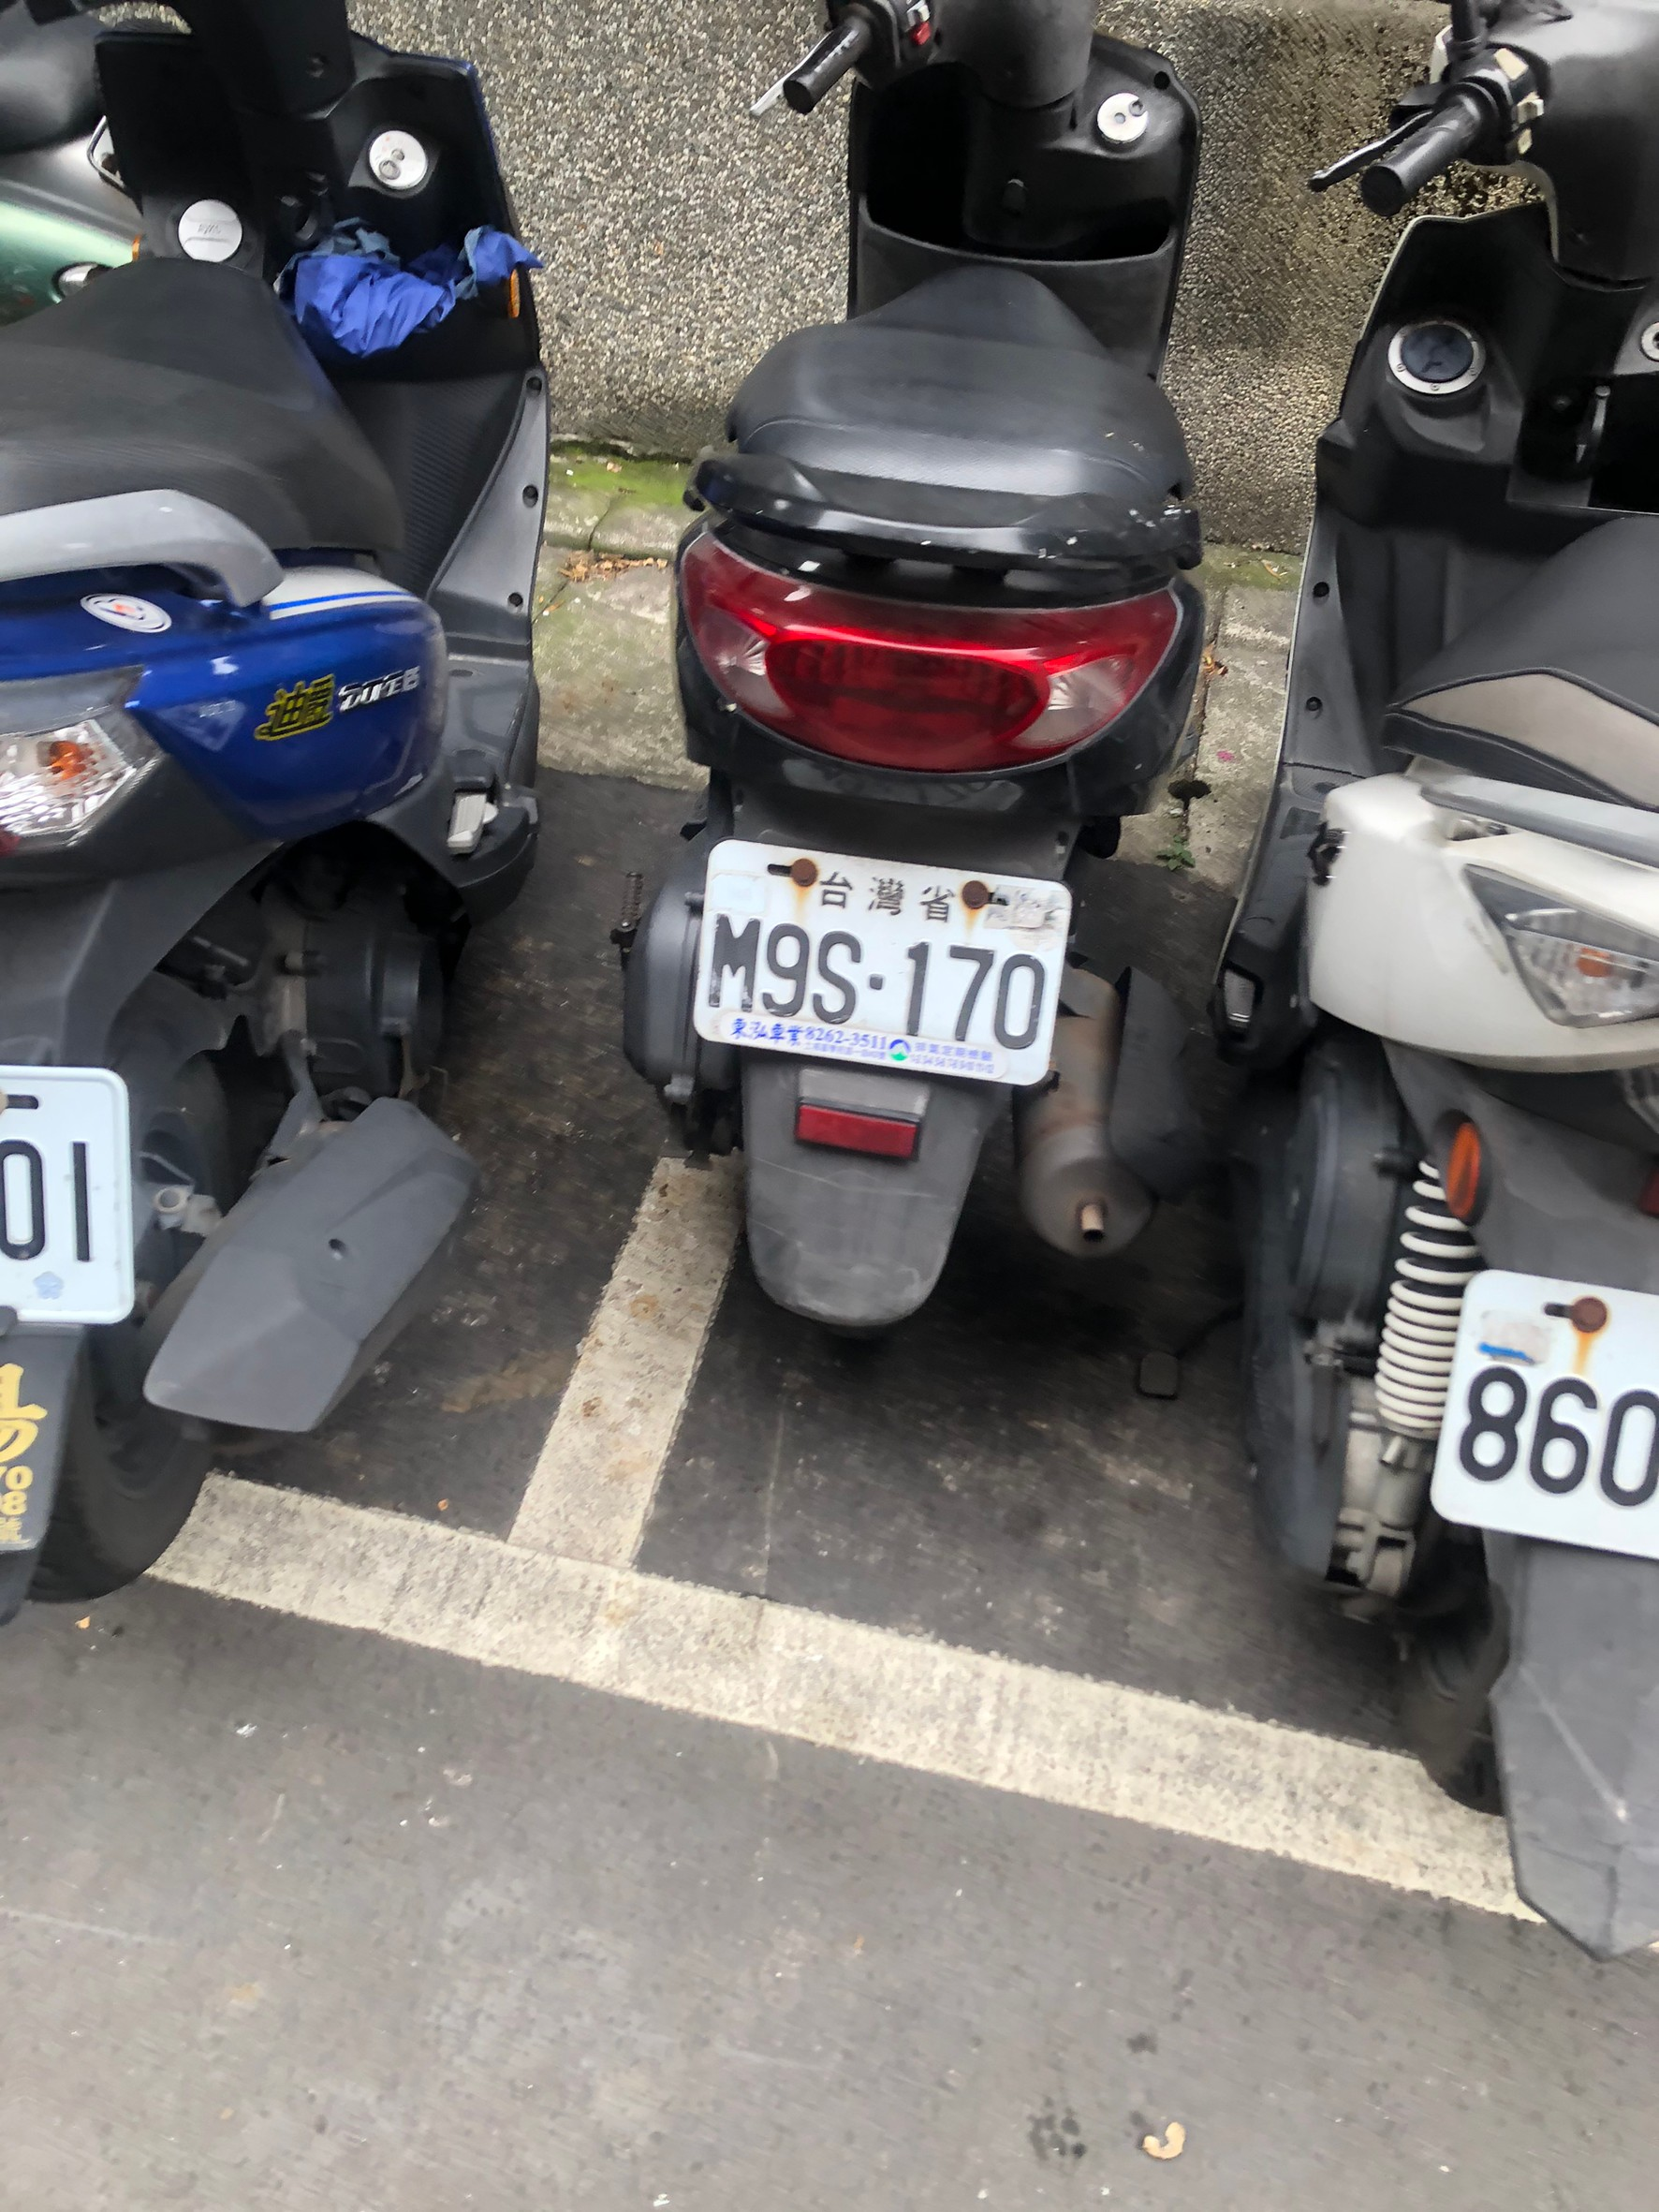LP: (702, 840, 1058, 1075), (1424, 1264, 1659, 1557), (2, 1067, 134, 1328)
